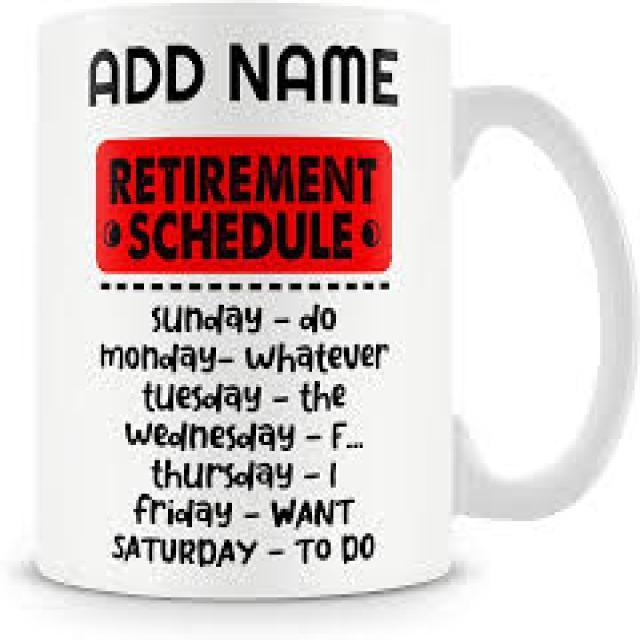taza: (19, 1, 630, 605)
